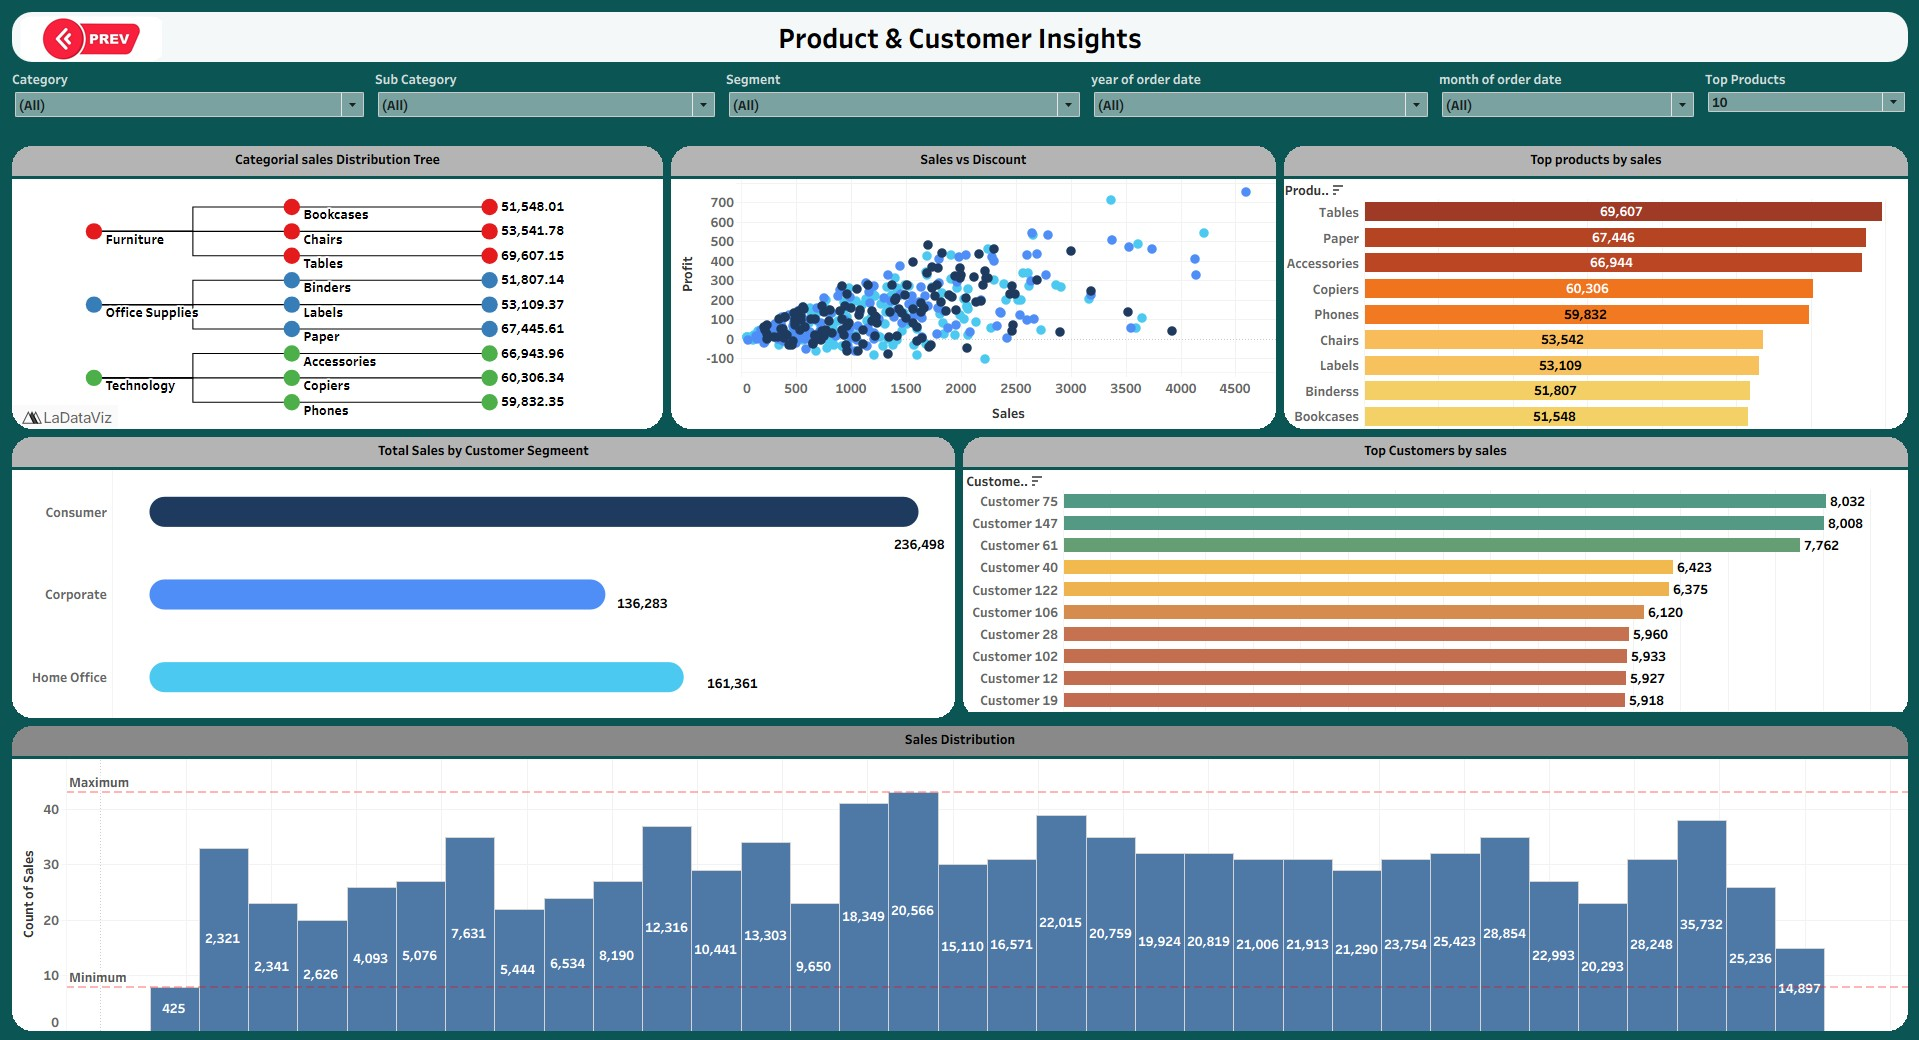

This screenshot's page, from the dashboard's own definition file:
{"tool":"tableau","page":{"name":"Dashboard_2","canvas":[1000,1000],"units":"permille","ordinal":1},"visuals":[{"type":"title","box":[4.8,9.4,990.4,55]},{"type":"dashboard-object","box":[7.2,15.3,80.7,43.5]},{"type":"filter","title":"3,4 (2)","param":"[federated.1q288ys0k7e3qc0zwxb7v0koqdo2].[none:Category:nk]","box":[4.8,64.4,188.6,72.8]},{"type":"filter","title":"3,4 (2)","param":"[federated.1q288ys0k7e3qc0zwxb7v0koqdo2].[none:Sub_Category:nk]","box":[193.4,64.4,182.7,72.8]},{"type":"filter","title":"5","param":"[federated.1q288ys0k7e3qc0zwxb7v0koqdo2].[none:Segment:nk]","box":[376.1,64.4,190.1,72.8]},{"type":"filter","title":"11","param":"[federated.1q288ys0k7e3qc0zwxb7v0koqdo2].[none:Calculation_1747154220519427:nk]","box":[566.2,64.4,180.8,72.8]},{"type":"filter","title":"11","param":"[federated.1q288ys0k7e3qc0zwxb7v0koqdo2].[none:Calculation_1747154220670980:nk]","box":[747,64.4,138.3,72.8]},{"type":"parameter","param":"[Parameters].[Parameter 0804601230573568]","box":[885.3,64.4,109.9,72.8]},{"type":"worksheet","title":"3,4 (2)","mark":"VizExtension","box":[4.8,137.2,342.9,278.5]},{"type":"worksheet","title":"6","mark":"Circle","rows":["Profit"],"cols":["Sales"],"box":[347.7,137.2,319,278.5]},{"type":"worksheet","title":"7,8","mark":"Automatic","rows":["Product_Name"],"cols":["Sales"],"box":[666.7,137.2,328.6,278.5]},{"type":"worksheet","title":"5","mark":"Line","rows":["Segment"],"box":[4.8,415.7,494.8,276.1]},{"type":"worksheet","title":"11","mark":"Automatic","rows":["Customer_Name"],"cols":["Sales"],"box":[499.6,415.7,495.6,276.1]},{"type":"worksheet","title":"9","mark":"Automatic","rows":["Sales"],"cols":["Sales (bin)"],"box":[4.8,691.8,990.4,298.8]}]}

Visuals, with their boxes on the dashboard's canvas, which has no fixed pixel size, in thousandths of its width and height (x1, y1, x2, y2). These are canvas units, not pixel positions in the 1919x1040 screenshot, which may show the page scaled, cropped or inside an application window:
title: locate(5, 9, 995, 64)
dashboard-object: locate(7, 15, 88, 59)
"3,4 (2)" filter: locate(5, 64, 193, 137)
"3,4 (2)" filter: locate(193, 64, 376, 137)
"5" filter: locate(376, 64, 566, 137)
"11" filter: locate(566, 64, 747, 137)
"11" filter: locate(747, 64, 885, 137)
parameter: locate(885, 64, 995, 137)
"3,4 (2)" worksheet (VizExtension marks): locate(5, 137, 348, 416)
"6" worksheet (Circle marks): locate(348, 137, 667, 416)
"7,8" worksheet: locate(667, 137, 995, 416)
"5" worksheet (Line marks): locate(5, 416, 500, 692)
"11" worksheet: locate(500, 416, 995, 692)
"9" worksheet: locate(5, 692, 995, 991)
